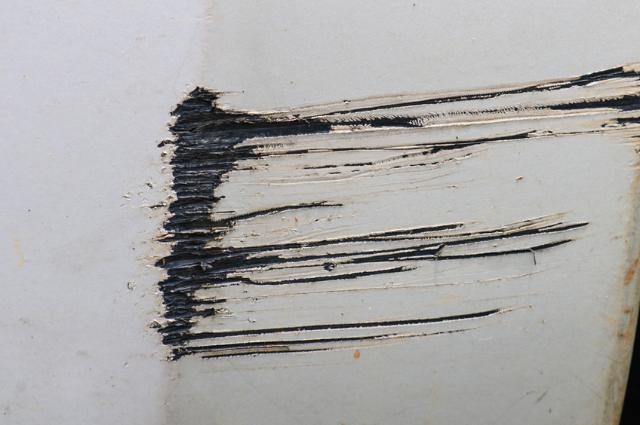Fender: (89, 14, 640, 390)
